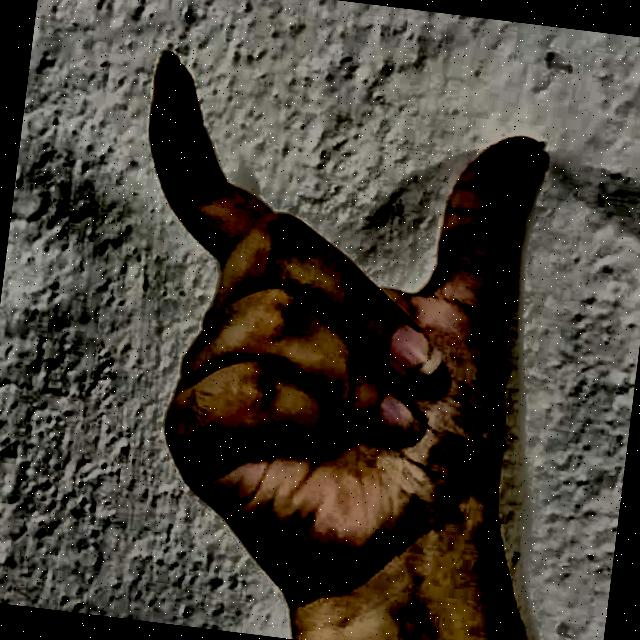ChandraBindu: (62, 0, 594, 637)
